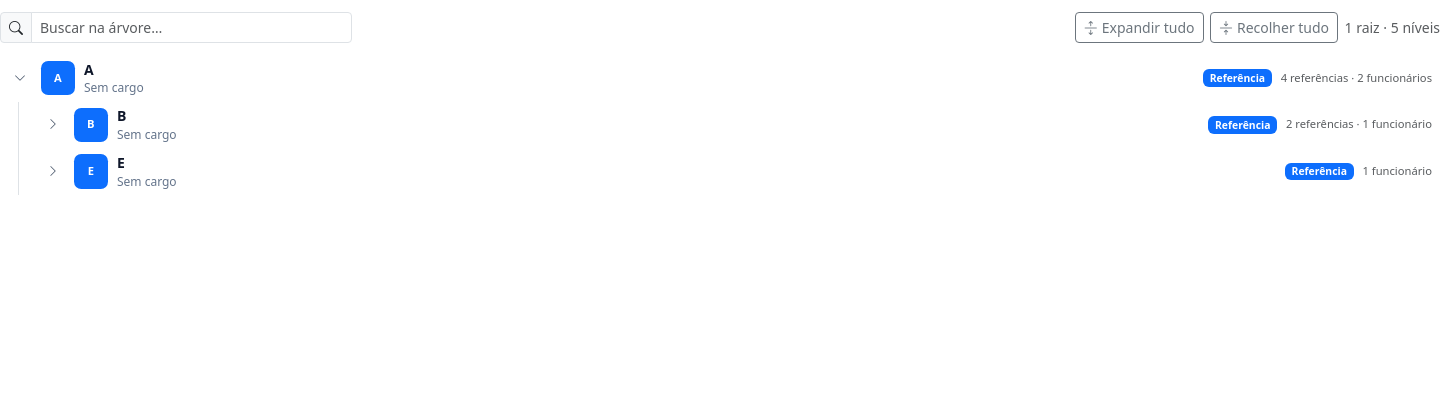
Scenario: ReferenciaTree › renderiza todos os níveis quando tudo está expandido
The width and height of the screenshot is (1452, 398).
Click the button "Expandir tudo".
click(1139, 28)  # box x1=1075 y1=12 x2=1204 y2=43
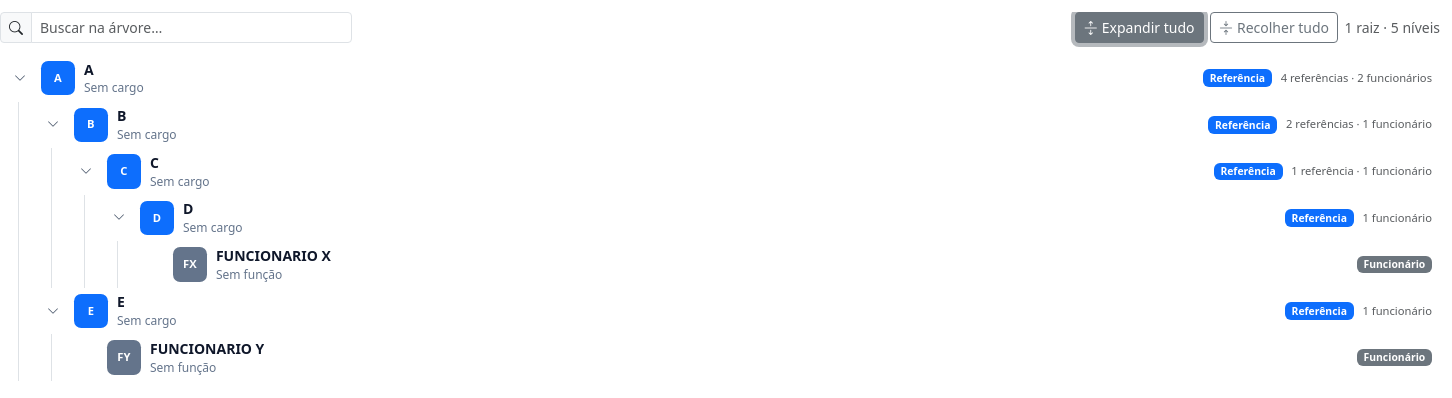
expect the 2nd text "C" is shown: met, box x1=150 y1=154 x2=159 y2=172
expect the 2nd text "D" is shown: met, box x1=183 y1=200 x2=193 y2=218
expect the text "FUNCIONARIO X" is shown: met, box x1=216 y1=247 x2=331 y2=265
